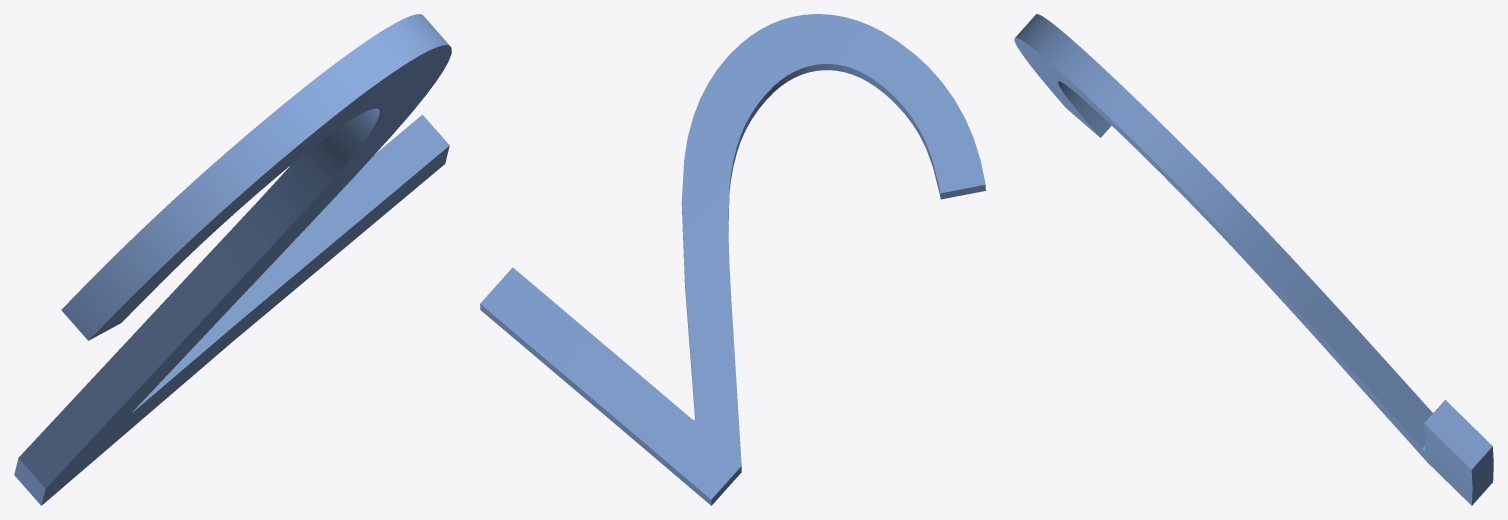
File: New_Number_2.gltf
The picture shows the model from 3 angles, left to right: view 1: azimuth 30°, elevation 25°; view 2: azimuth 150°, elevation 25°; view 3: azimuth 270°, elevation 25°; orthographic projection. The views are drawn at different scales.
Parts seen in each view (by area): view 1: Part 236; view 2: Part 236; view 3: Part 236.
Boxes of the visible parts, x1=… form: Part 236: x1=14, y1=14, x2=451, y2=505; Part 236: x1=480, y1=14, x2=985, y2=505; Part 236: x1=1014, y1=14, x2=1493, y2=505.
Bounding box in the file's own units: 0.0045 × 0.0044 × 0.00382.
